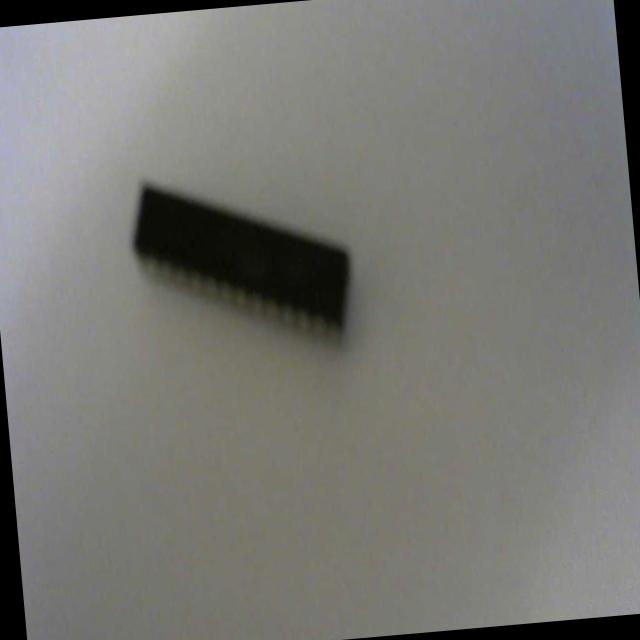atmega: (123, 158, 360, 362)
